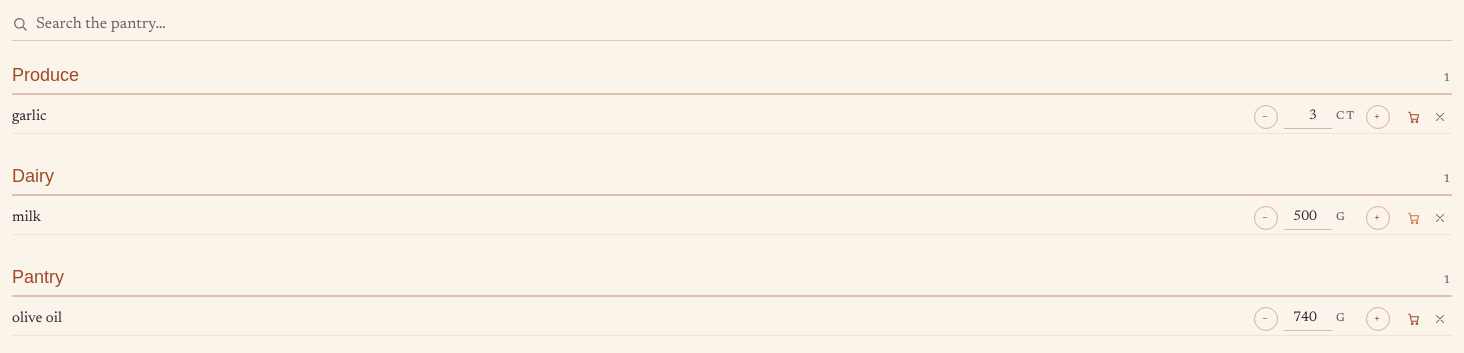
Test: PantryView › cart adds a manual grocery item and flips to added state
Click the button named "Add garlic to grocery list": [1414, 117] box [1402,105,1426,129]
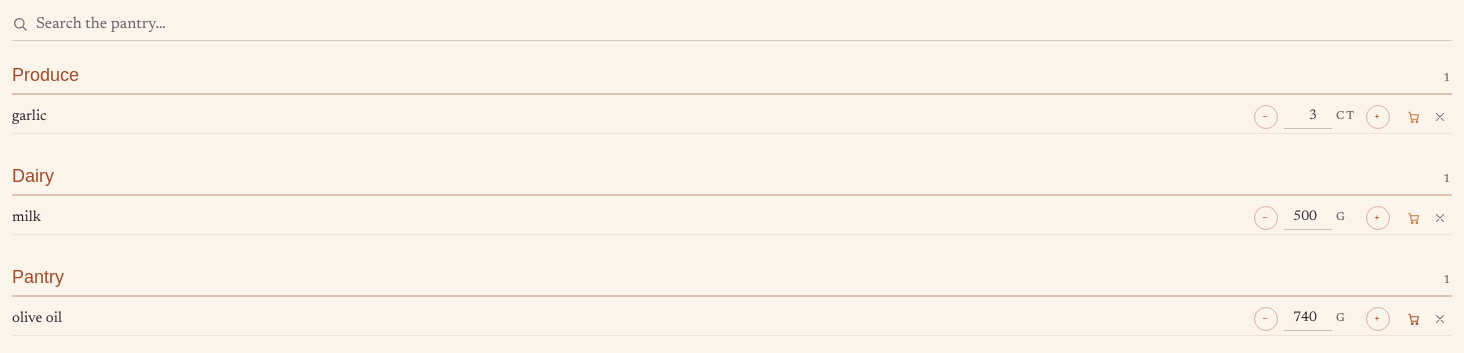
Expected: the button named "garlic is already on your grocery list" is disabled, [1402,105,1426,129]
